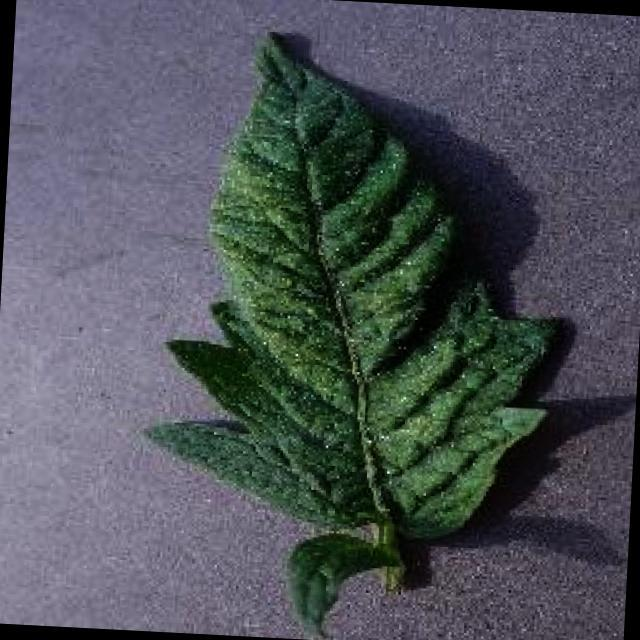Tomato spider mites leaf: (138, 24, 568, 548)
